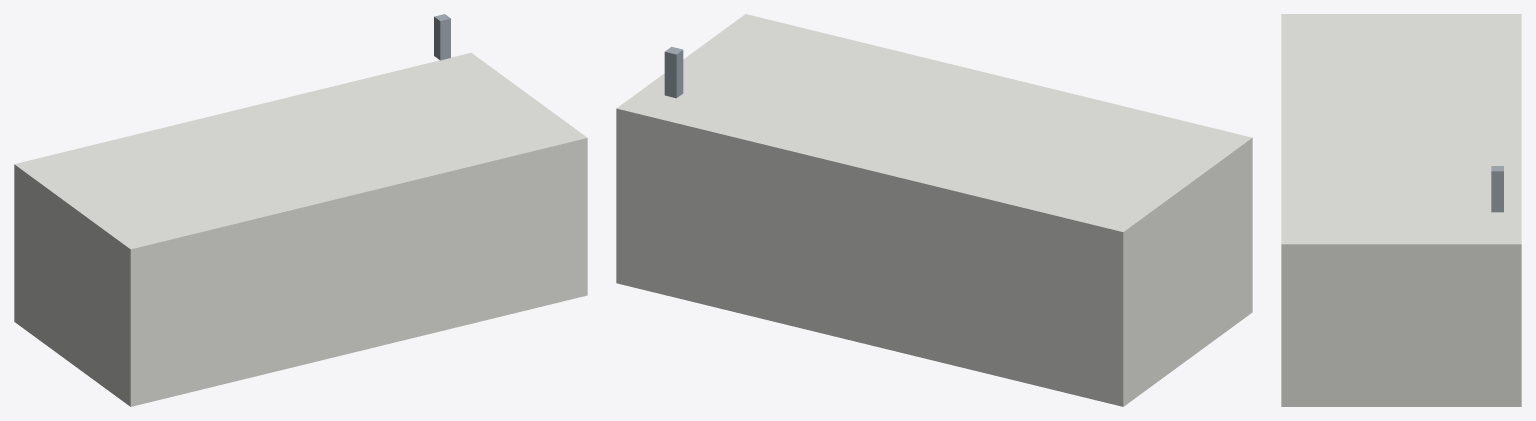
File: GH_Tub_01.glb
The picture shows the model from 3 angles, left to right: view 1: azimuth 30°, elevation 25°; view 2: azimuth 150°, elevation 25°; view 3: azimuth 270°, elevation 25°; orthographic projection. The views are drawn at different scales.
Parts seen in each view (by area): view 1: GH_Tub_01; view 2: GH_Tub_01; view 3: GH_Tub_01.
Boxes of the visible parts, bbox=[...] form: GH_Tub_01: bbox=[14, 14, 587, 406]; GH_Tub_01: bbox=[616, 14, 1252, 406]; GH_Tub_01: bbox=[1281, 14, 1521, 406].
Size of the model in its own units: 1.7 by 0.75 by 0.75.
Materials: 1 (1 with a texture image).
